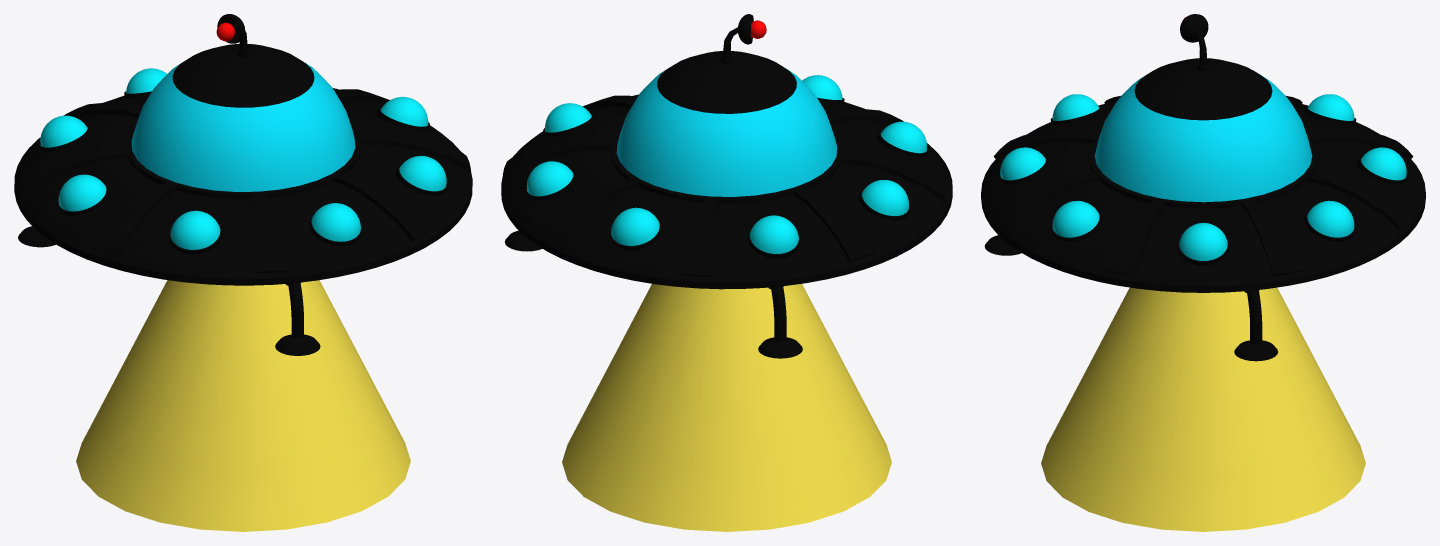
File: retroufo_glow.glb
3 views of the same model, side by side, from view 1: azimuth 30°, elevation 25°; view 2: azimuth 150°, elevation 25°; view 3: azimuth 270°, elevation 25° (orthographic). The views are drawn at different scales.
Parts seen in each view (by area): view 1: Cone01, Cylinder02, meshId17_name, meshId16_name, Sphere03, Sphere05, Cylinder04, Sphere01, Sphere07, Sphere08, Sphere02, Sphere06; view 2: Cone01, Cylinder02, meshId17_name, meshId16_name, Sphere08, Sphere06, Cylinder07, Sphere01, Sphere04, Sphere03, Sphere02, Sphere05; view 3: Cone01, Cylinder02, meshId17_name, meshId16_name, Sphere02, Sphere04, Sphere07, Cylinder10, Sphere05, Sphere06, Sphere03, Sphere08 (+1 smaller).
Boxes of the visible parts, <box> form: Cone01: <box>76,280,410,531</box>; Cylinder02: <box>14,88,472,285</box>; meshId17_name: <box>131,61,355,191</box>; meshId16_name: <box>125,43,361,198</box>; Sphere03: <box>170,210,220,249</box>; Sphere05: <box>311,203,360,241</box>; Cylinder04: <box>275,282,320,355</box>; Sphere01: <box>58,174,106,211</box>; Sphere07: <box>399,155,446,191</box>; Sphere08: <box>40,115,87,147</box>; Sphere02: <box>380,96,428,126</box>; Sphere06: <box>126,68,166,93</box>; Cone01: <box>562,283,891,531</box>; Cylinder02: <box>501,94,952,289</box>; meshId17_name: <box>616,68,837,196</box>; meshId16_name: <box>610,51,843,203</box>; Sphere08: <box>749,215,798,253</box>; Sphere06: <box>611,207,659,245</box>; Cylinder07: <box>758,286,802,358</box>; Sphere01: <box>862,180,908,216</box>; Sphere04: <box>526,161,573,196</box>; Sphere03: <box>880,121,927,153</box>; Sphere02: <box>545,103,591,132</box>; Sphere05: <box>802,75,842,99</box>; Cone01: <box>1041,287,1365,531</box>; Cylinder02: <box>981,96,1425,292</box>; meshId17_name: <box>1094,76,1312,202</box>; meshId16_name: <box>1088,58,1318,208</box>; Sphere02: <box>1179,223,1227,260</box>; Sphere04: <box>1307,200,1354,237</box>; Sphere07: <box>1052,200,1099,237</box>; Cylinder10: <box>1234,290,1277,361</box>; Sphere05: <box>1000,147,1045,180</box>; Sphere06: <box>1361,147,1406,180</box>; Sphere03: <box>1052,94,1099,120</box>; Sphere08: <box>1307,94,1354,120</box>.
Bounding box in the file's own units: 146 × 160 × 146.
